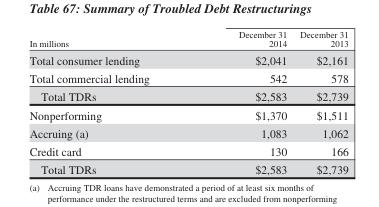table: (28, 28, 347, 175)
table column: (28, 28, 193, 175), (193, 28, 292, 175), (292, 28, 347, 175)
table column header: (28, 28, 347, 50)
table row: (28, 28, 347, 50), (28, 86, 347, 105), (28, 105, 347, 124), (28, 50, 347, 68), (28, 68, 347, 86), (28, 124, 347, 142), (28, 142, 347, 160), (28, 160, 347, 175)
